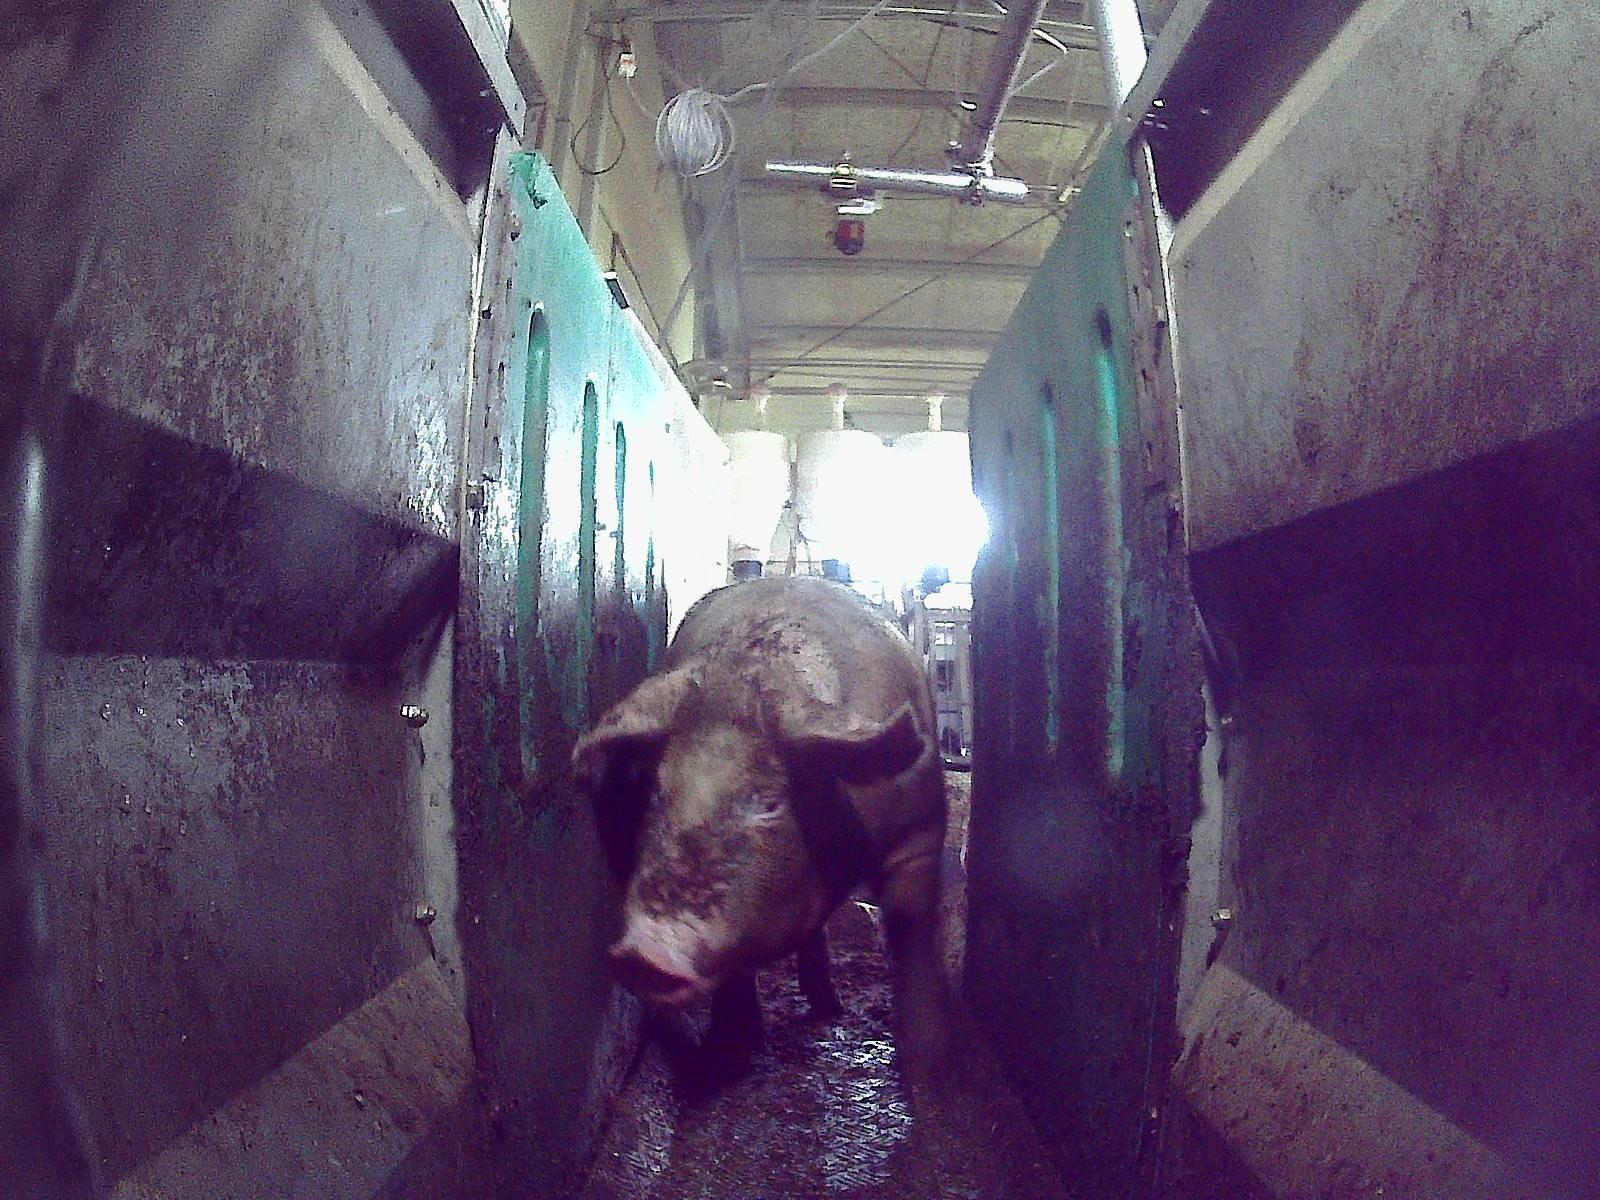Face: (610, 659, 848, 1011)
